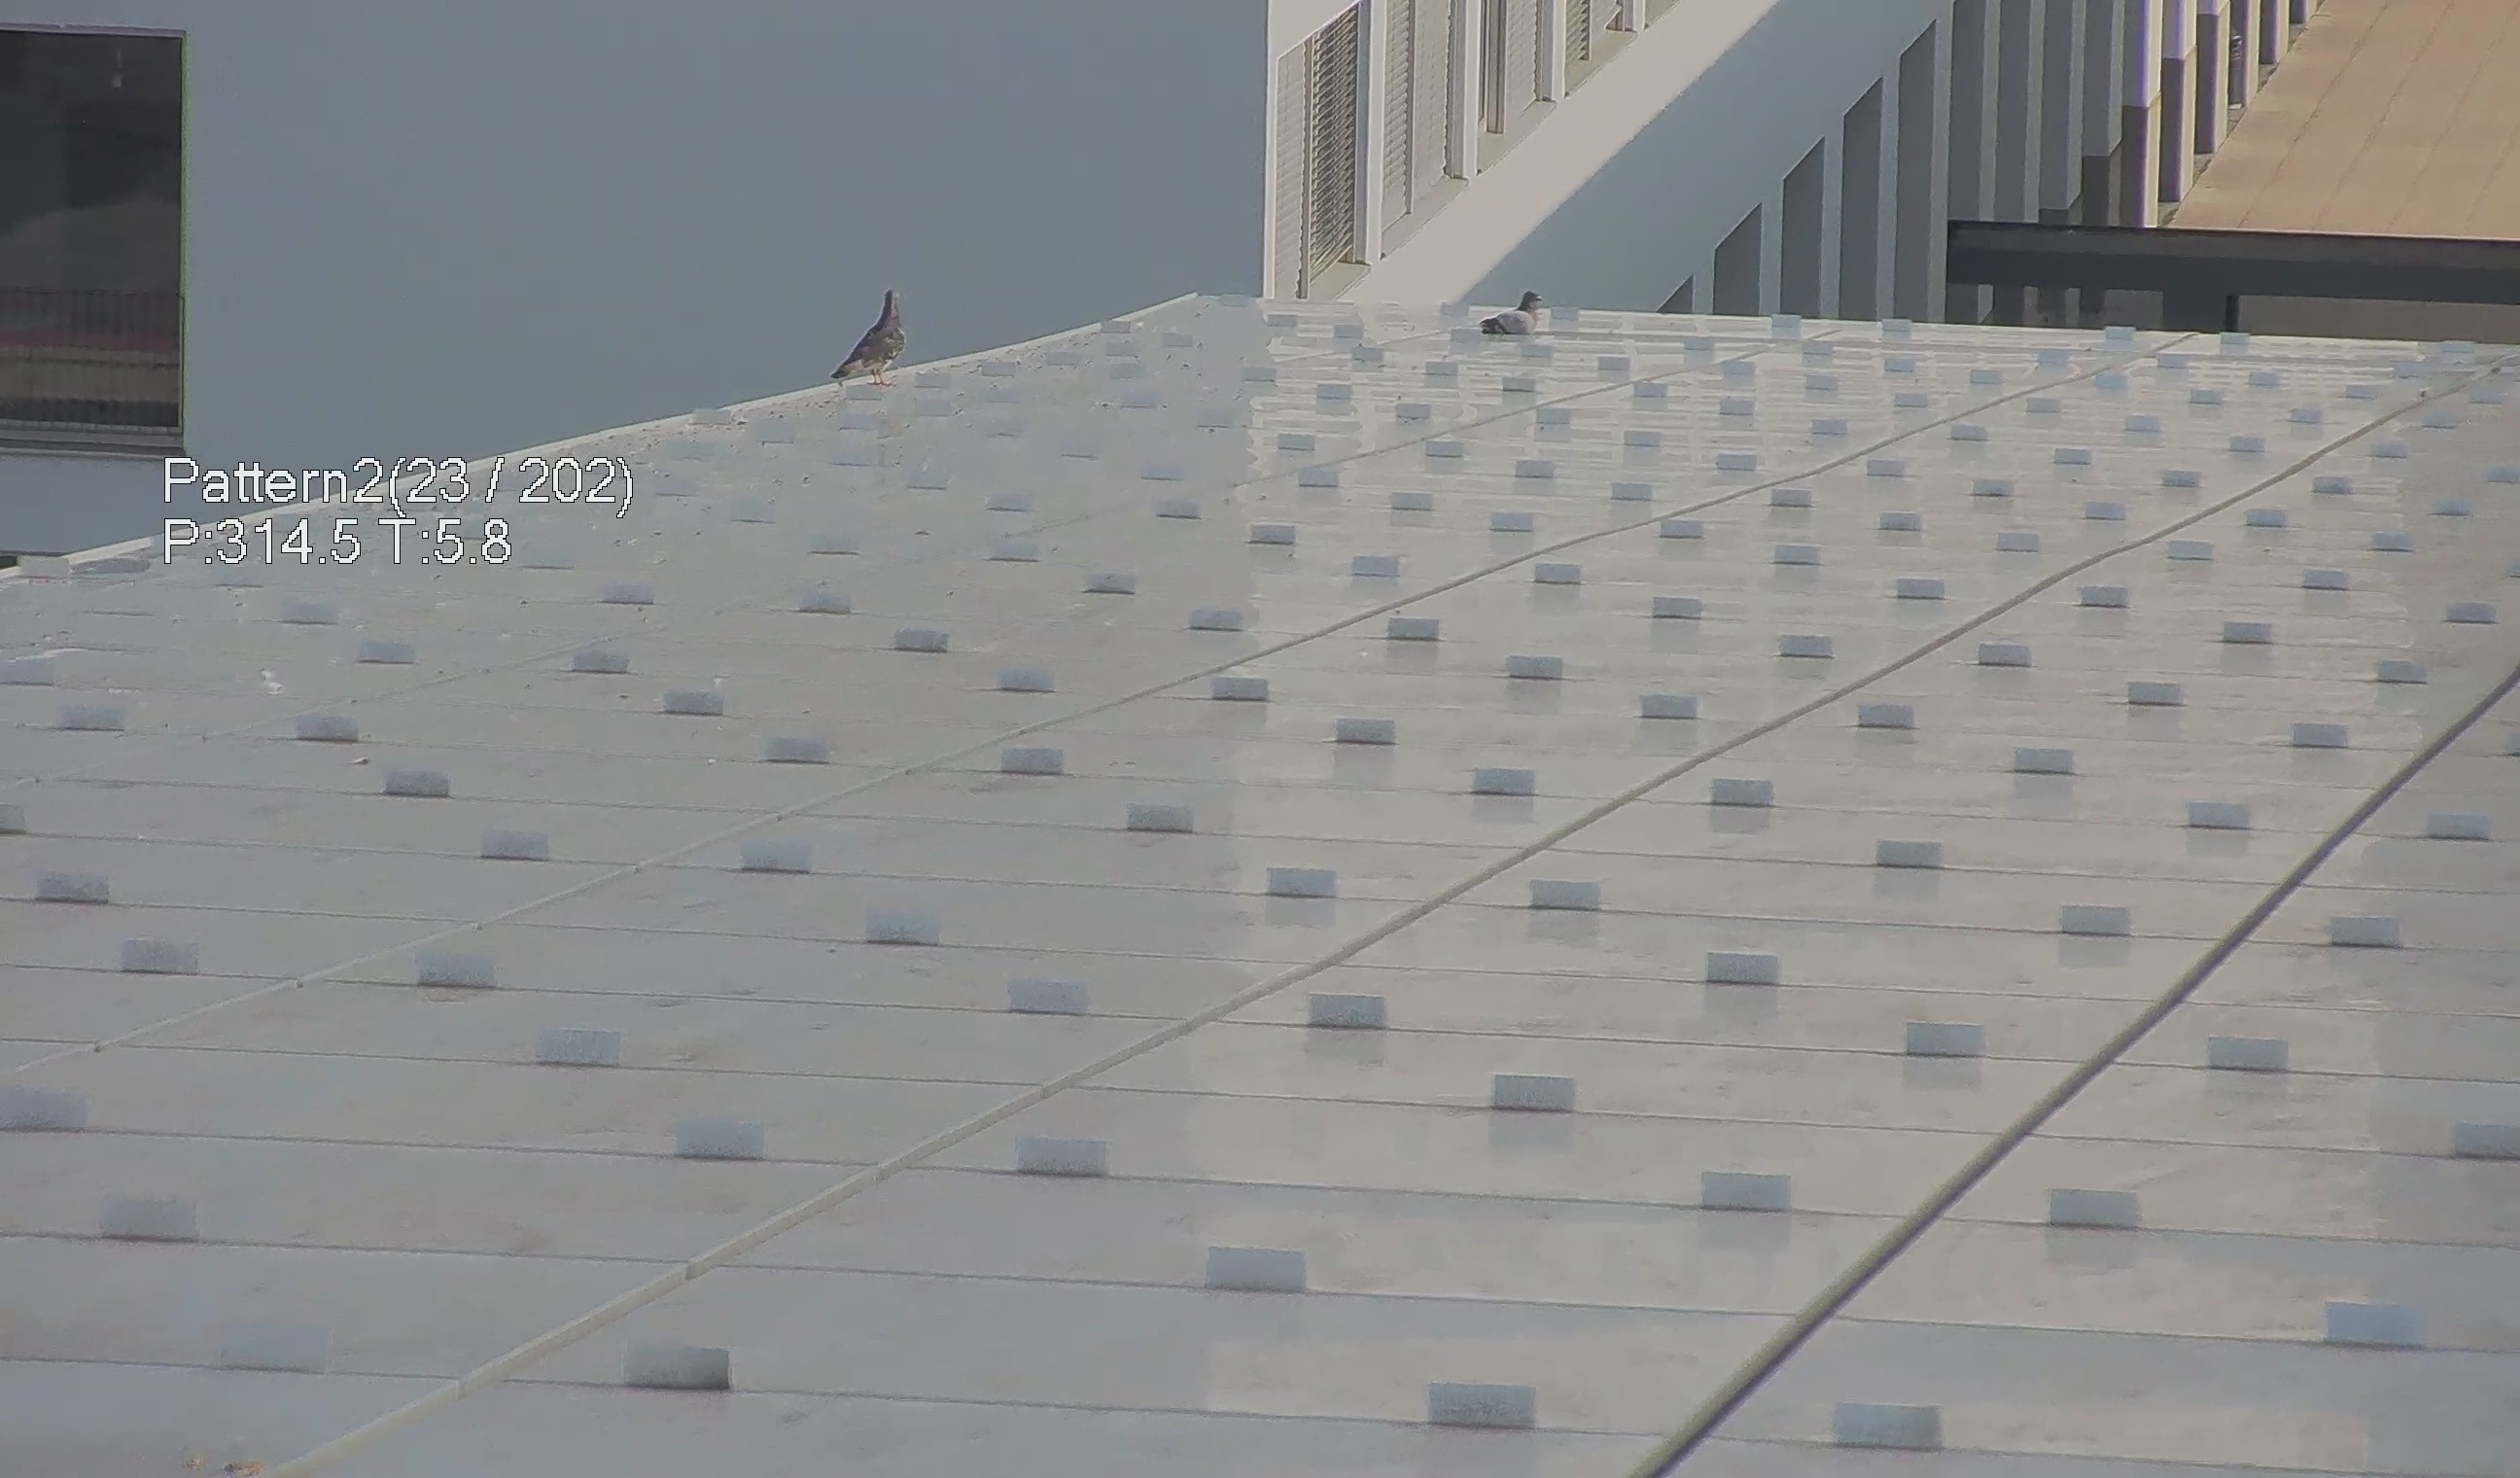Pigeon: (807, 269, 906, 392), (1474, 282, 1562, 347)
